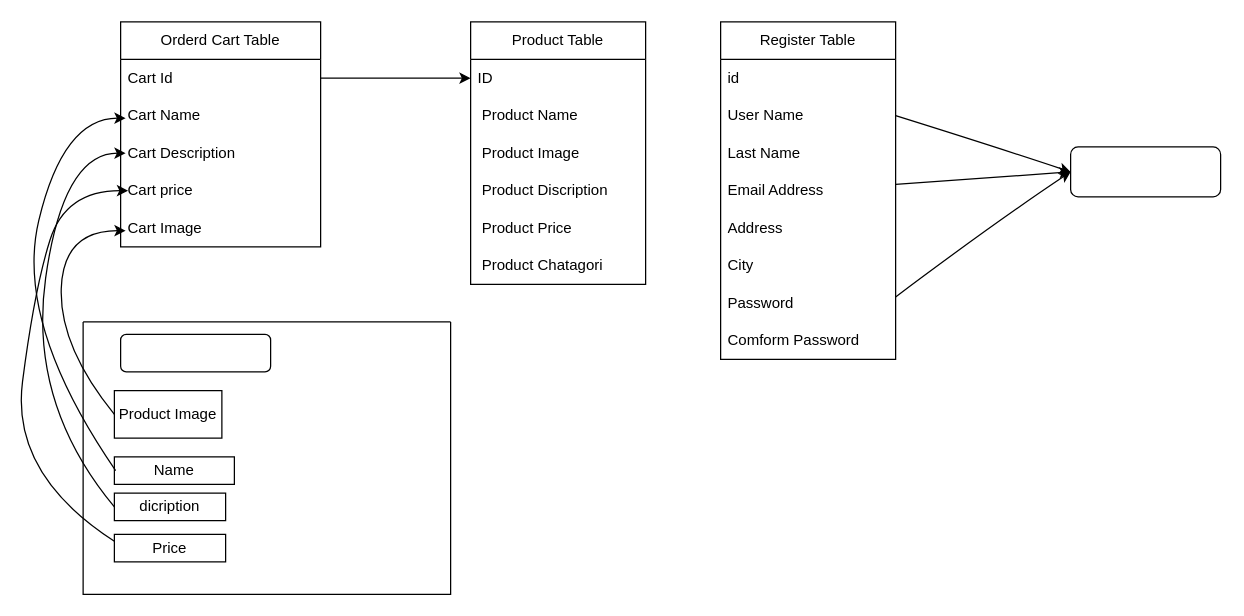
This 1244x616 diagram has some shape labels left out. The centre of each missing label's shape, as x and y in pixels:
"Cart Page" belongs at [195,352].
"Login Page" belongs at [1145,171].
